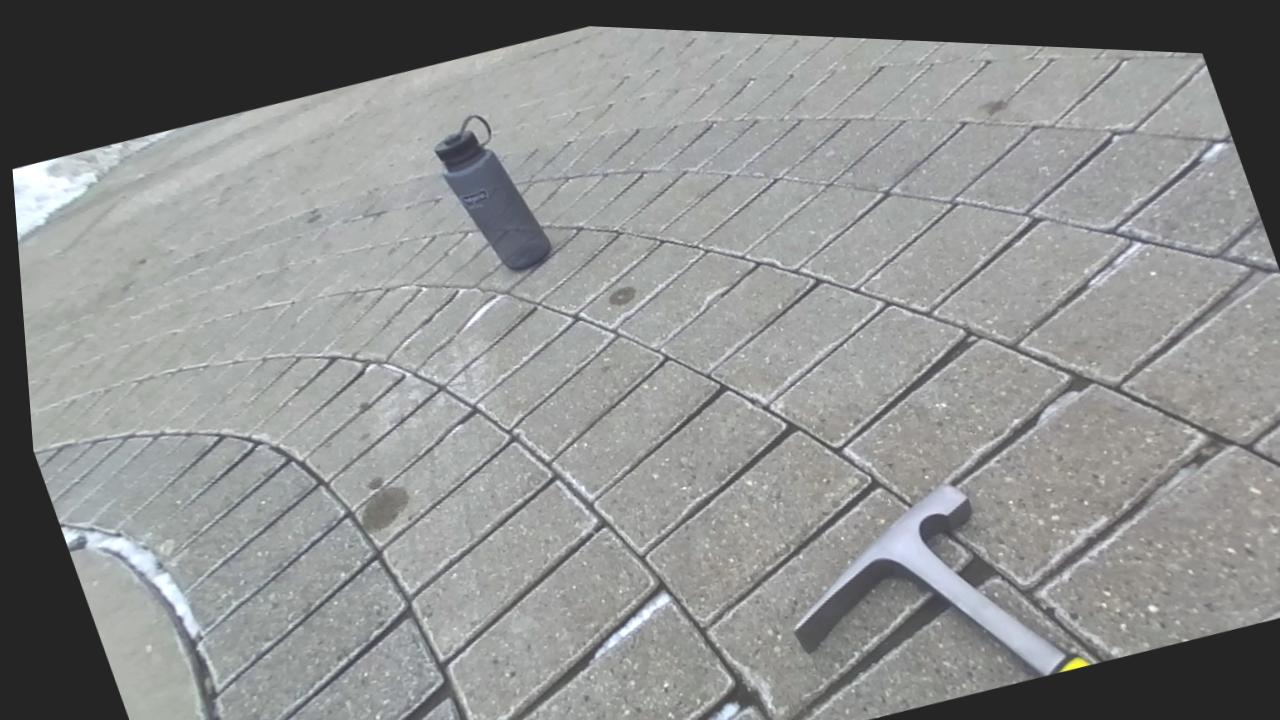bottle: (434, 115, 550, 269)
pick: (794, 484, 1088, 676)
